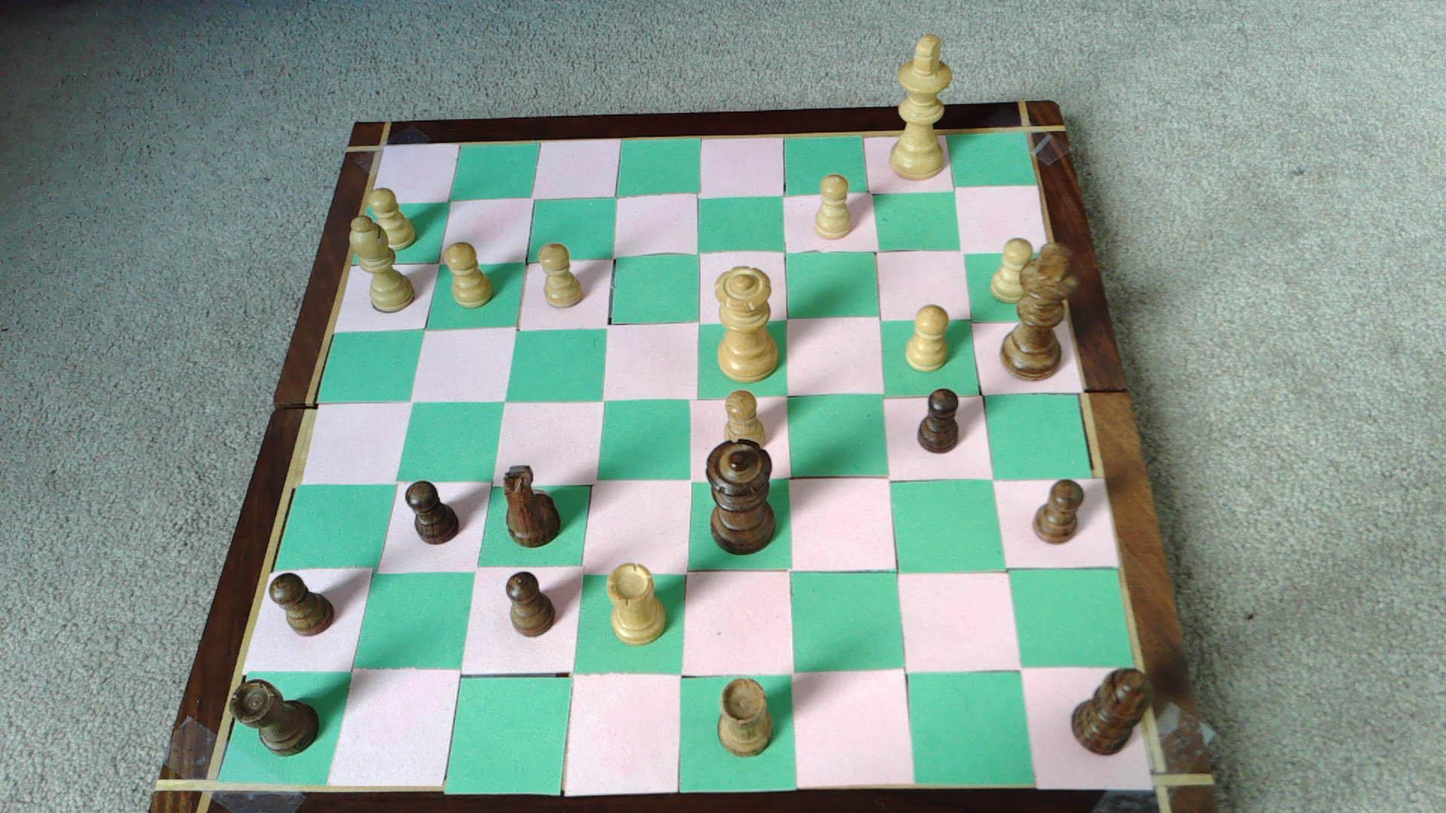dark_piece: (1001, 251, 1075, 379), (706, 440, 775, 553), (231, 680, 319, 754), (1072, 669, 1148, 753), (504, 465, 560, 547), (718, 676, 773, 755), (270, 572, 334, 635), (406, 481, 458, 543), (1032, 480, 1083, 543), (505, 572, 554, 636), (918, 388, 959, 452)
white_piece: (889, 36, 953, 180), (715, 266, 778, 380), (348, 213, 415, 312), (606, 562, 667, 644), (364, 188, 416, 251), (444, 242, 493, 307), (539, 243, 584, 308), (906, 305, 949, 371), (990, 238, 1032, 303), (725, 389, 768, 451), (814, 175, 853, 239)
